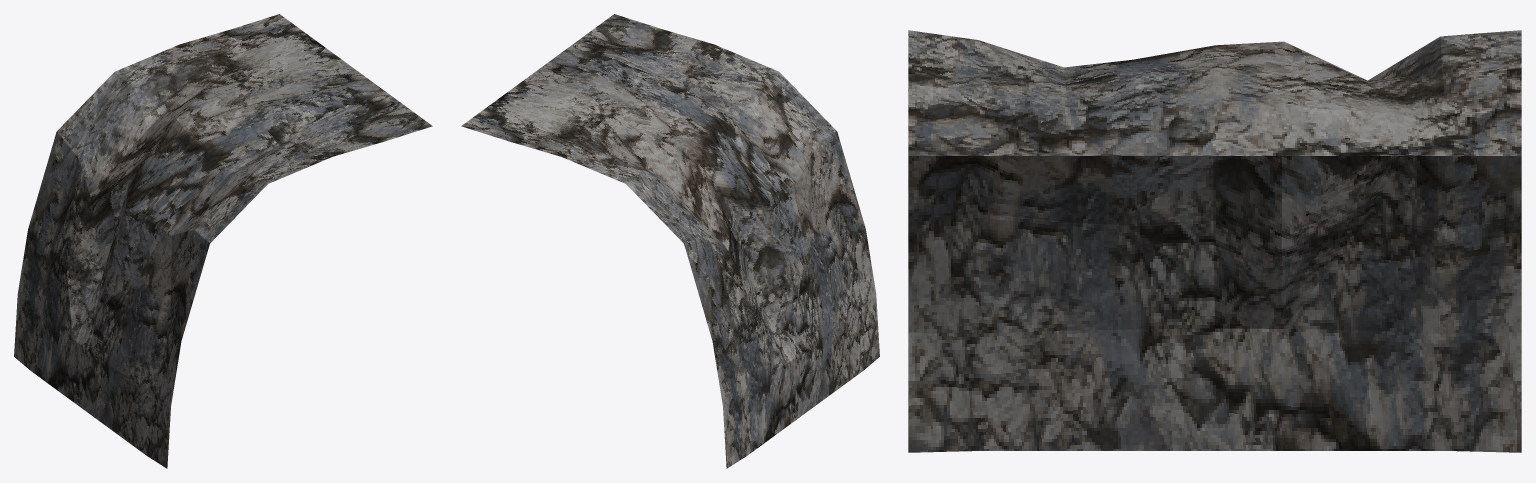
File: wall_01_corner_02.glb
3 views of the same model, side by side, from view 1: azimuth 30°, elevation 25°; view 2: azimuth 150°, elevation 25°; view 3: azimuth 270°, elevation 25° (orthographic). The views are drawn at different scales.
Parts seen in each view (by area): view 1: wall_01_corner_02; view 2: wall_01_corner_02; view 3: wall_01_corner_02.
Boxes of the visible parts, box(x1,y1,x2,y2) form: wall_01_corner_02: box(14, 14, 432, 468); wall_01_corner_02: box(461, 14, 879, 468); wall_01_corner_02: box(908, 30, 1521, 452).
Bounding box in the file's own units: 16.12 × 16.06 × 16.
Materials: 1 (1 with a texture image).
